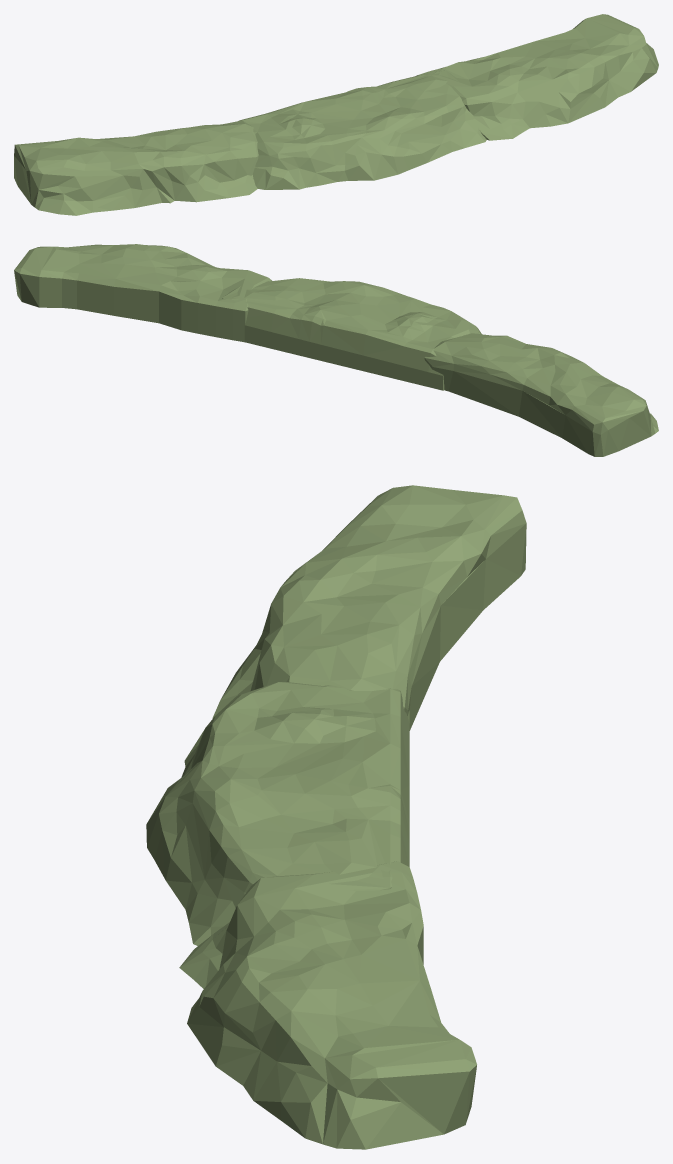
File: Soil-bench1.fbx
3 renders of one model, top to bottom at view 1: azimuth 30°, elevation 25°; view 2: azimuth 150°, elevation 25°; view 3: azimuth 270°, elevation 25°, orthographic. The views are drawn at different scales.
Parts seen in each view (by area): view 1: Soil-bench1; view 2: Soil-bench1; view 3: Soil-bench1.
Part boxes in pixels (<box>): Soil-bench1: <box>14,14,658,215</box>; Soil-bench1: <box>14,244,658,456</box>; Soil-bench1: <box>146,485,526,1149</box>.
Size of the model in its own units: 1034 by 64.09 by 277.
